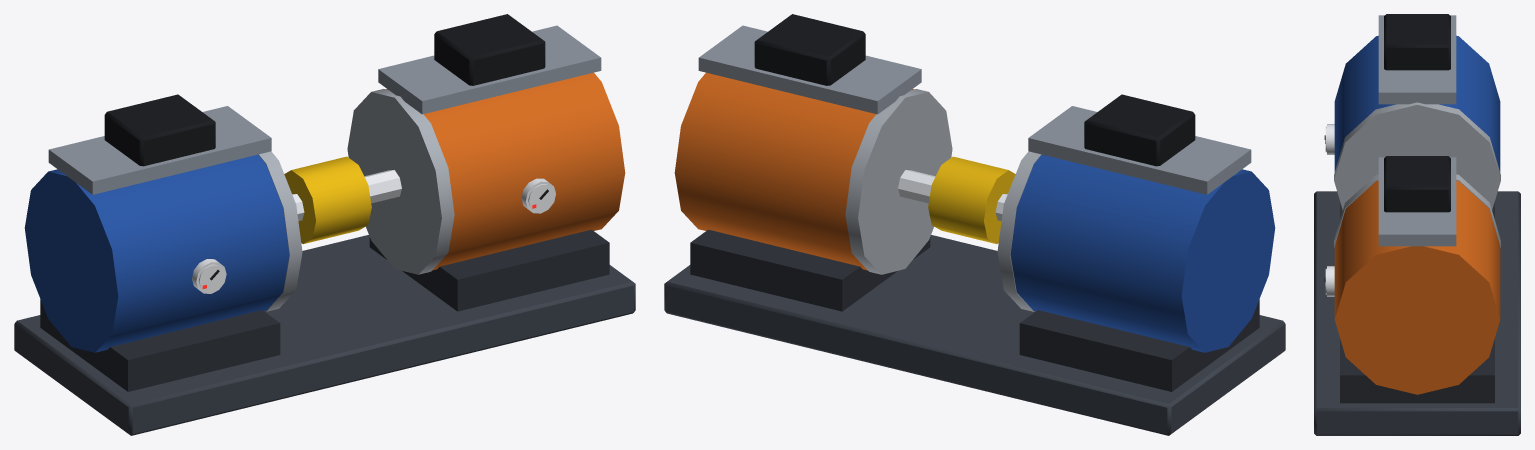
File: generator_motor_generator_set.glb
3 renders of one model, left to right at view 1: azimuth 30°, elevation 25°; view 2: azimuth 150°, elevation 25°; view 3: azimuth 270°, elevation 25°, orthographic. The views are drawn at different scales.
Parts seen in each view (by area): view 1: generator_motor_generator_set; view 2: generator_motor_generator_set; view 3: generator_motor_generator_set.
Part boxes in pixels (x1,y1,x2,y2): generator_motor_generator_set: [14, 14, 635, 435]; generator_motor_generator_set: [664, 14, 1285, 435]; generator_motor_generator_set: [1314, 14, 1520, 435].
Size of the model in its own units: 2.01 by 0.97 by 0.8.
